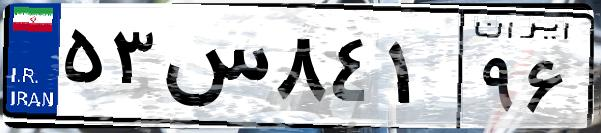1: (385, 28, 445, 110)
3: (110, 28, 158, 98)
4: (330, 28, 385, 110)
5: (57, 26, 110, 100)
6: (525, 38, 570, 115)
8: (270, 28, 330, 110)
9: (475, 38, 525, 113)
س: (158, 20, 270, 120)
